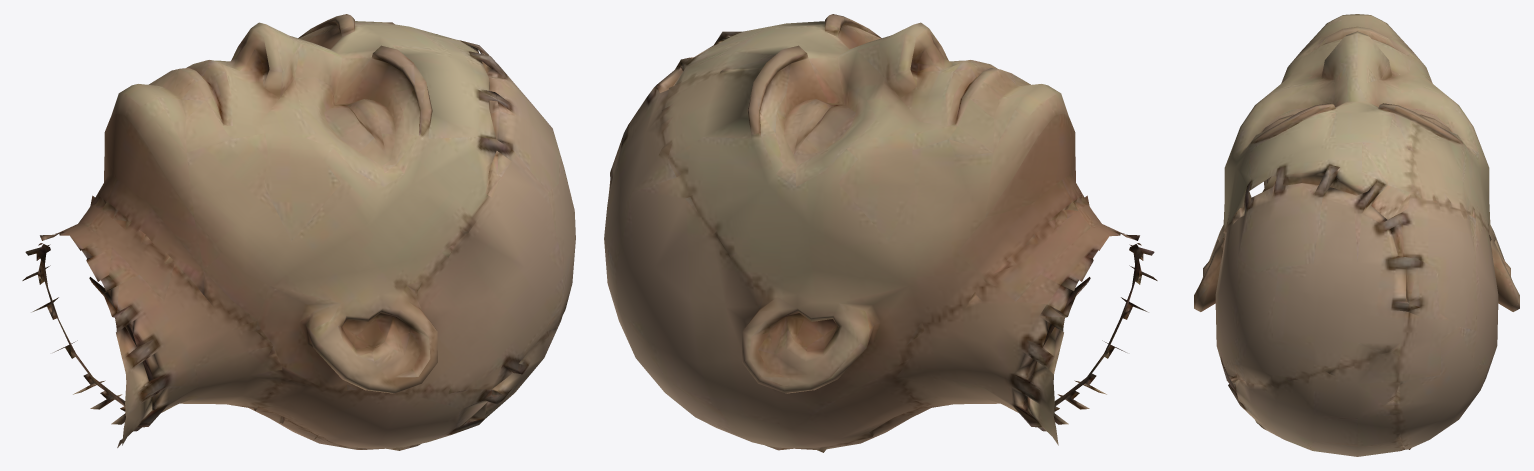
Rendered from head-skin.glb.
The picture shows the model from 3 angles, left to right: view 1: azimuth 30°, elevation 25°; view 2: azimuth 150°, elevation 25°; view 3: azimuth 270°, elevation 25°; orthographic projection. The views are drawn at different scales.
Visible parts, largest first — view 1: tripo_node_958b1e95-7f0e-4455-85f2-a0771; view 2: tripo_node_958b1e95-7f0e-4455-85f2-a0771; view 3: tripo_node_958b1e95-7f0e-4455-85f2-a0771.
Part boxes in pixels (x1,y1,x2,y2): tripo_node_958b1e95-7f0e-4455-85f2-a0771: (22,14,575,450); tripo_node_958b1e95-7f0e-4455-85f2-a0771: (604,14,1157,452); tripo_node_958b1e95-7f0e-4455-85f2-a0771: (1194,14,1519,456).
Size of the model in its own units: 0.052 by 0.0452 by 0.0368.
Materials: 1 (1 with a texture image).
